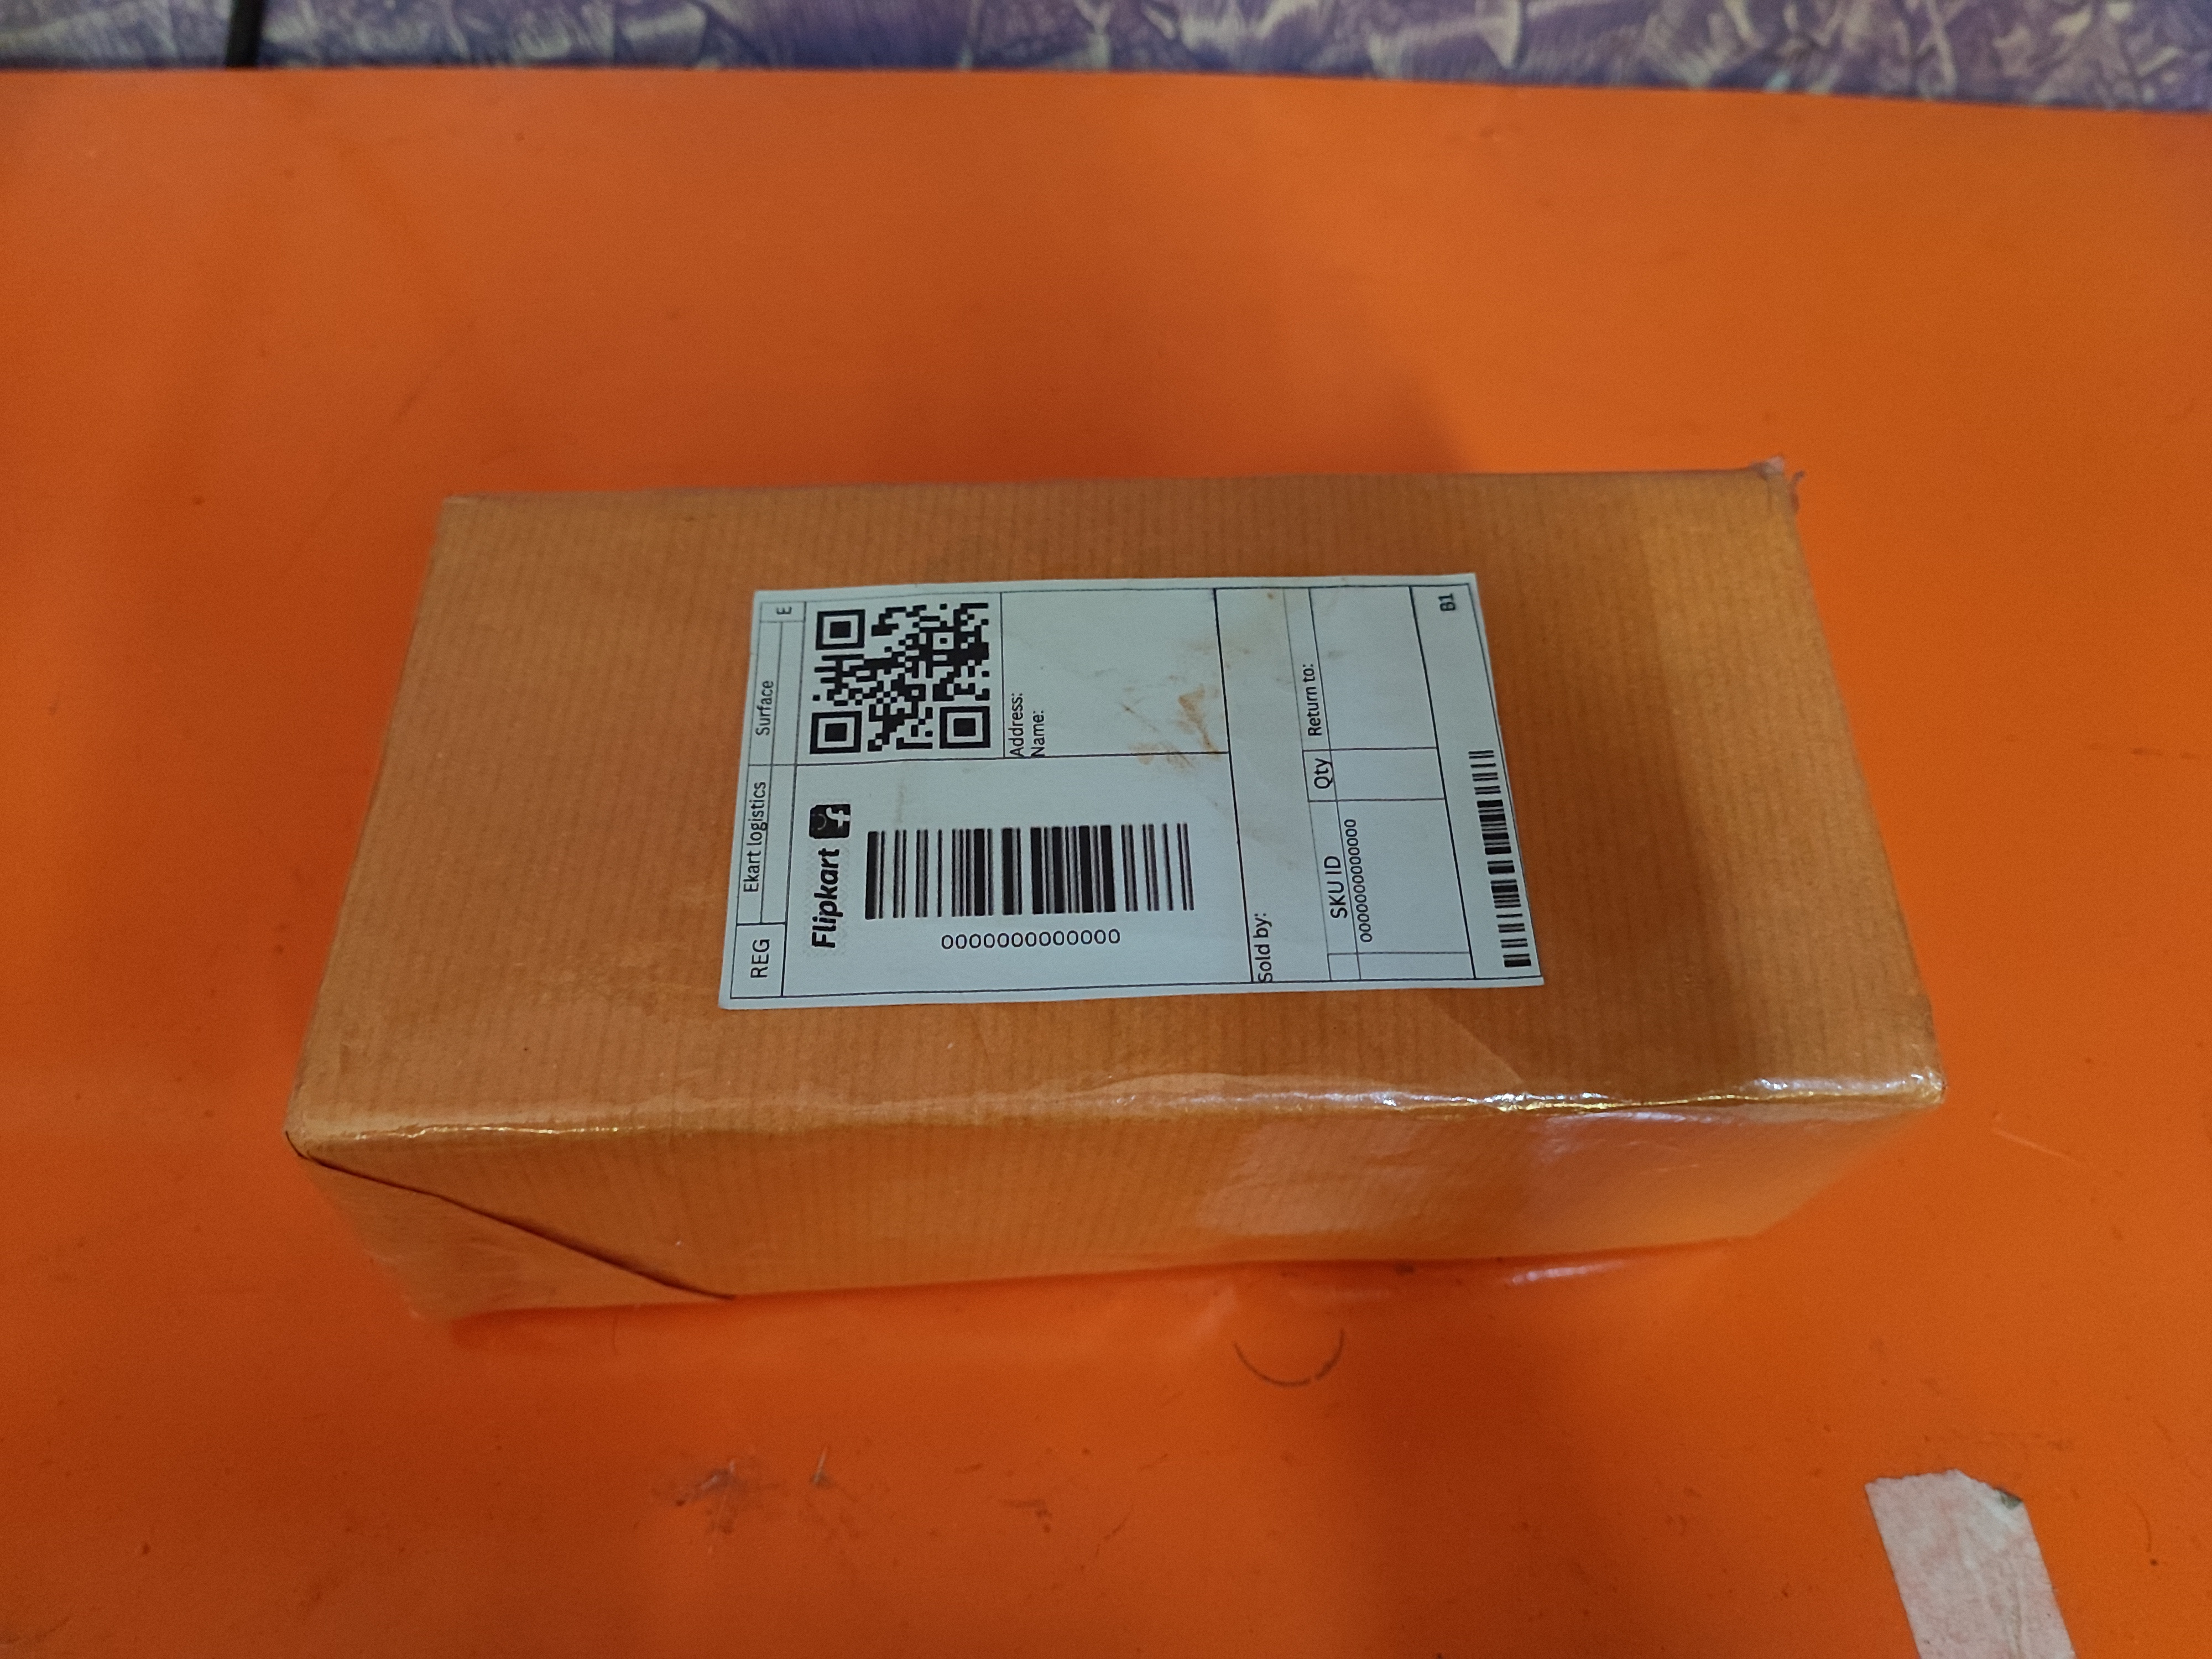Box: (329, 467, 1860, 1277)
